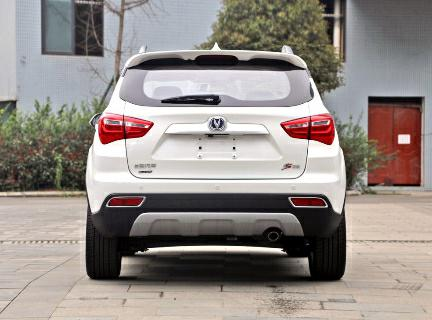长安-CS35: (75, 39, 356, 287)
